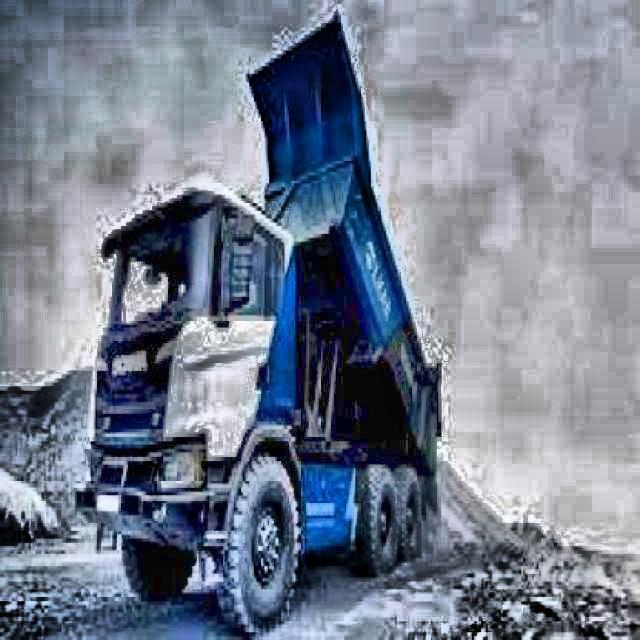dump_truck: (81, 0, 452, 635)
